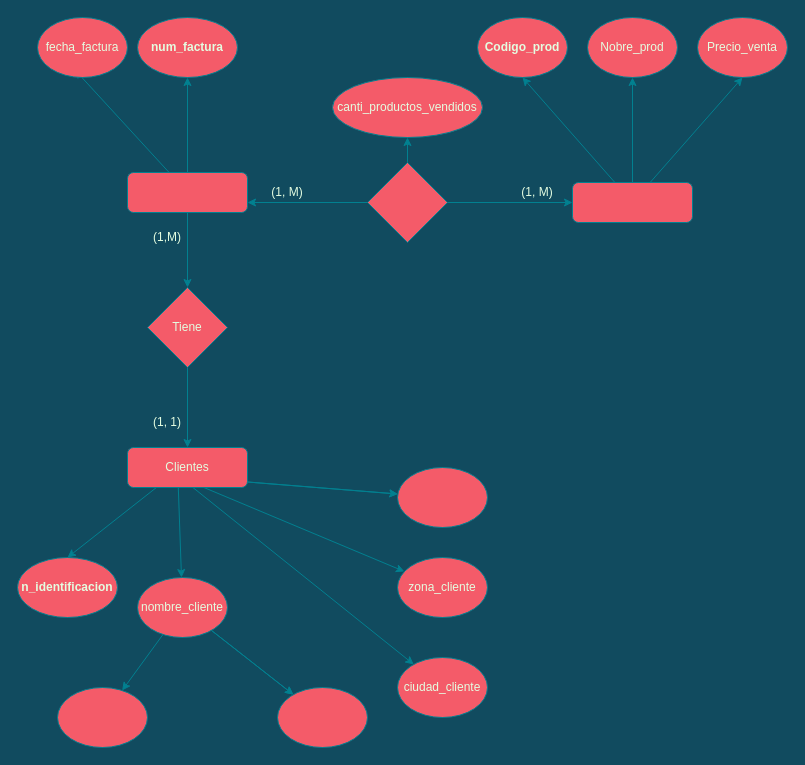
Some shapes in this 805 by 765 pixel diagram are drawn without their labels. The centre of each missing label's shape, as x and y in pixels:
apellido: (322,717)
Detalle: (407,202)
Factura: (187,192)
nombre: (102,717)
Productos: (632,202)
tipo_cliente: (442,497)
